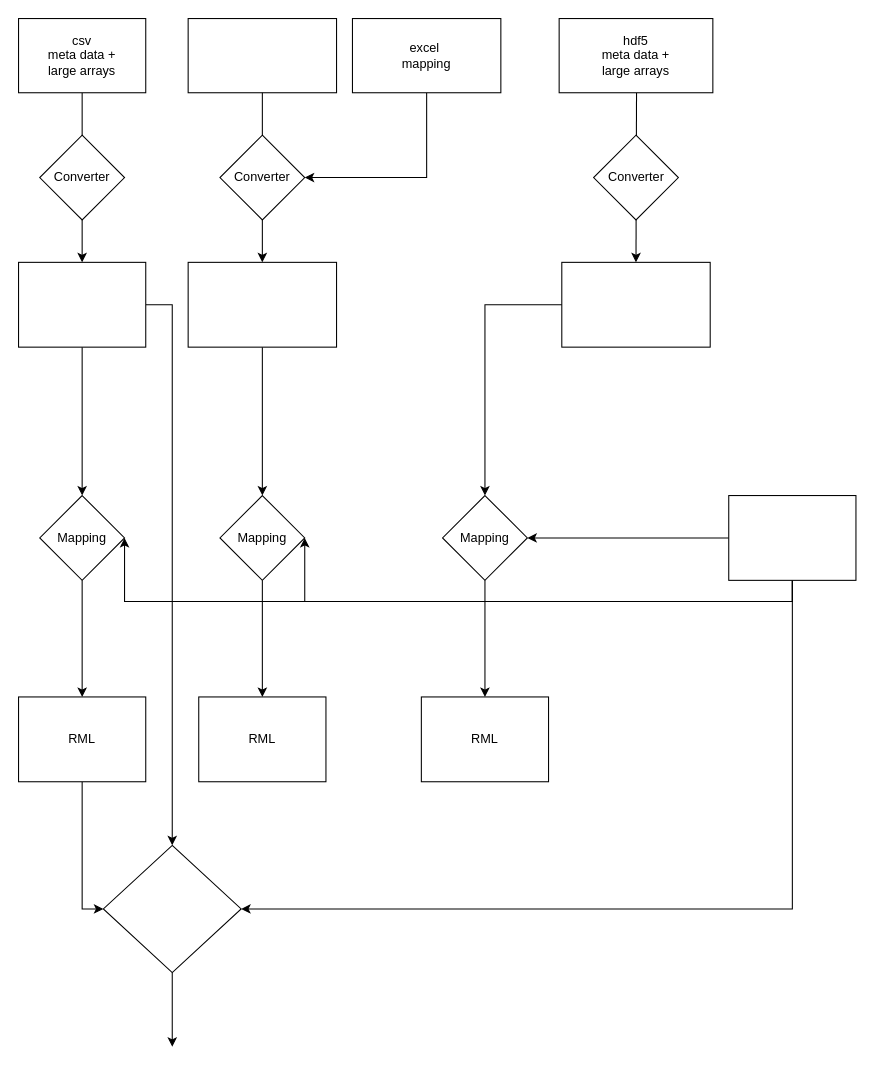
This 874x1074 diagram has some shape labels left out. Here are the shapes that lost their labels. From the top down, the centre of each, then its label:
At [262,55]: "excel meta data + large arrays".
At [81,304]: "json-ld (using csvw)".
At [262,304]: "json-ld (using cutom description)".
At [635,304]: "json-ld (using data cube vocabulary)".
At [792,537]: "method graph 1 (rdf)".
At [171,908]: "RDF generator".
